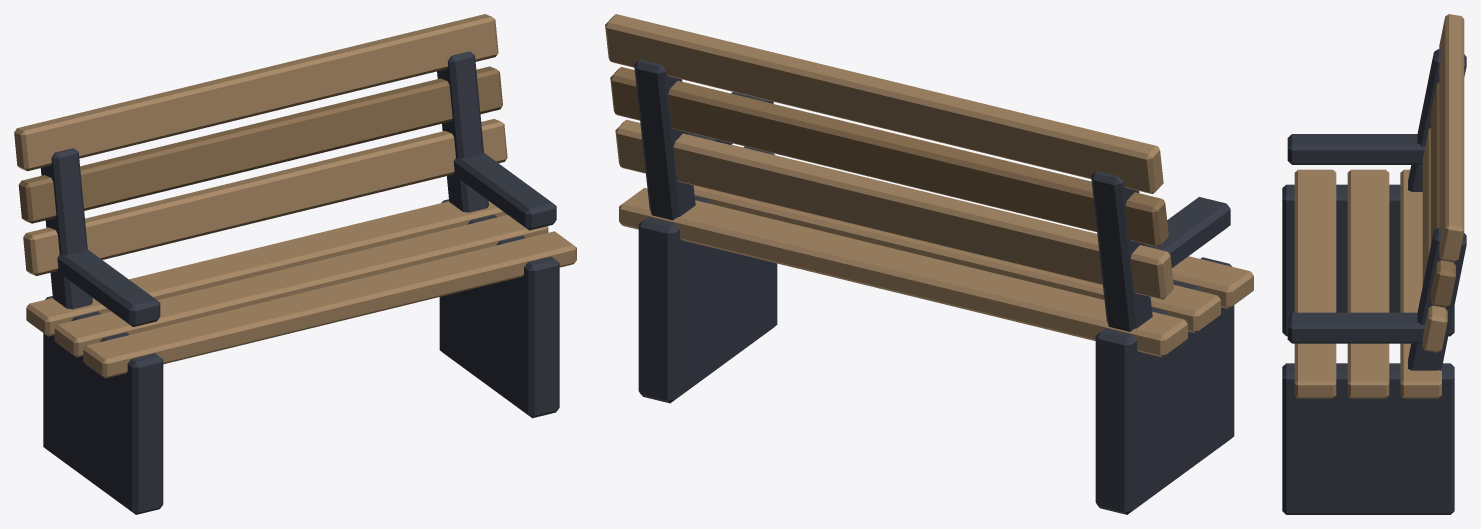
Rendered from Stylized_Prop_Bench.fbx.
3 renders of one model, left to right at view 1: azimuth 30°, elevation 25°; view 2: azimuth 150°, elevation 25°; view 3: azimuth 270°, elevation 25°, orthographic. The views are drawn at different scales.
Parts seen in each view (by area): view 1: Stylized_Prop_Bench; view 2: Stylized_Prop_Bench; view 3: Stylized_Prop_Bench.
Boxes of the visible parts, x1=… form: Stylized_Prop_Bench: x1=14, y1=14, x2=576, y2=514; Stylized_Prop_Bench: x1=605, y1=14, x2=1253, y2=514; Stylized_Prop_Bench: x1=1282, y1=14, x2=1466, y2=514.
Size of the model in its own units: 1.82 by 1.19 by 0.6636.
